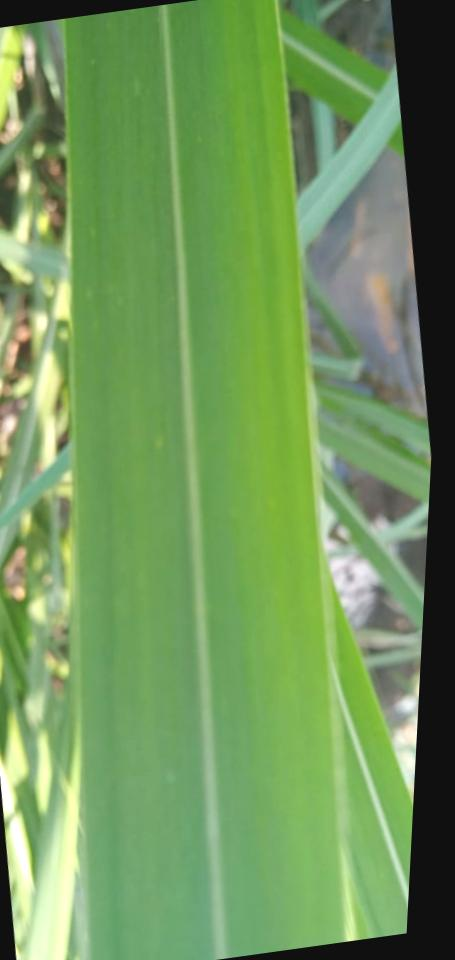Healthy: (66, 0, 344, 960), (332, 585, 413, 937)
